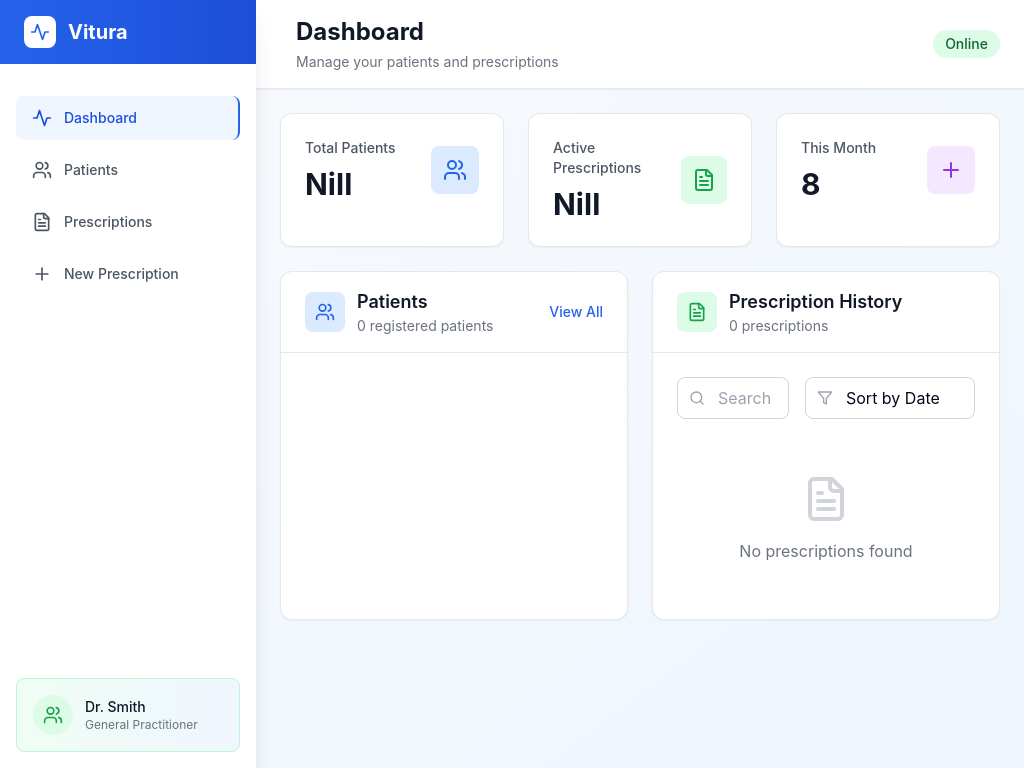
Scenario: App Component › switches to patients view when patients nav is clicked
Click the button "Patients" at x=128, y=170, box [16,148,240,192]
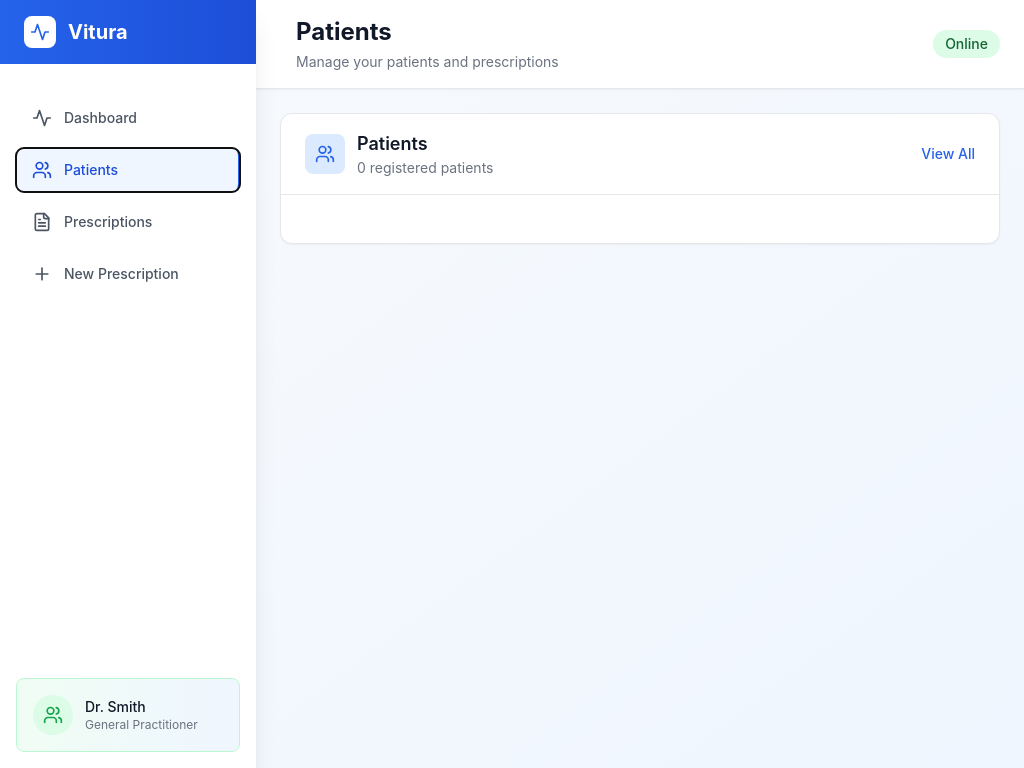
Now the heading "Patients" in the row of "Online" is shown, box [296,17,392,46]
